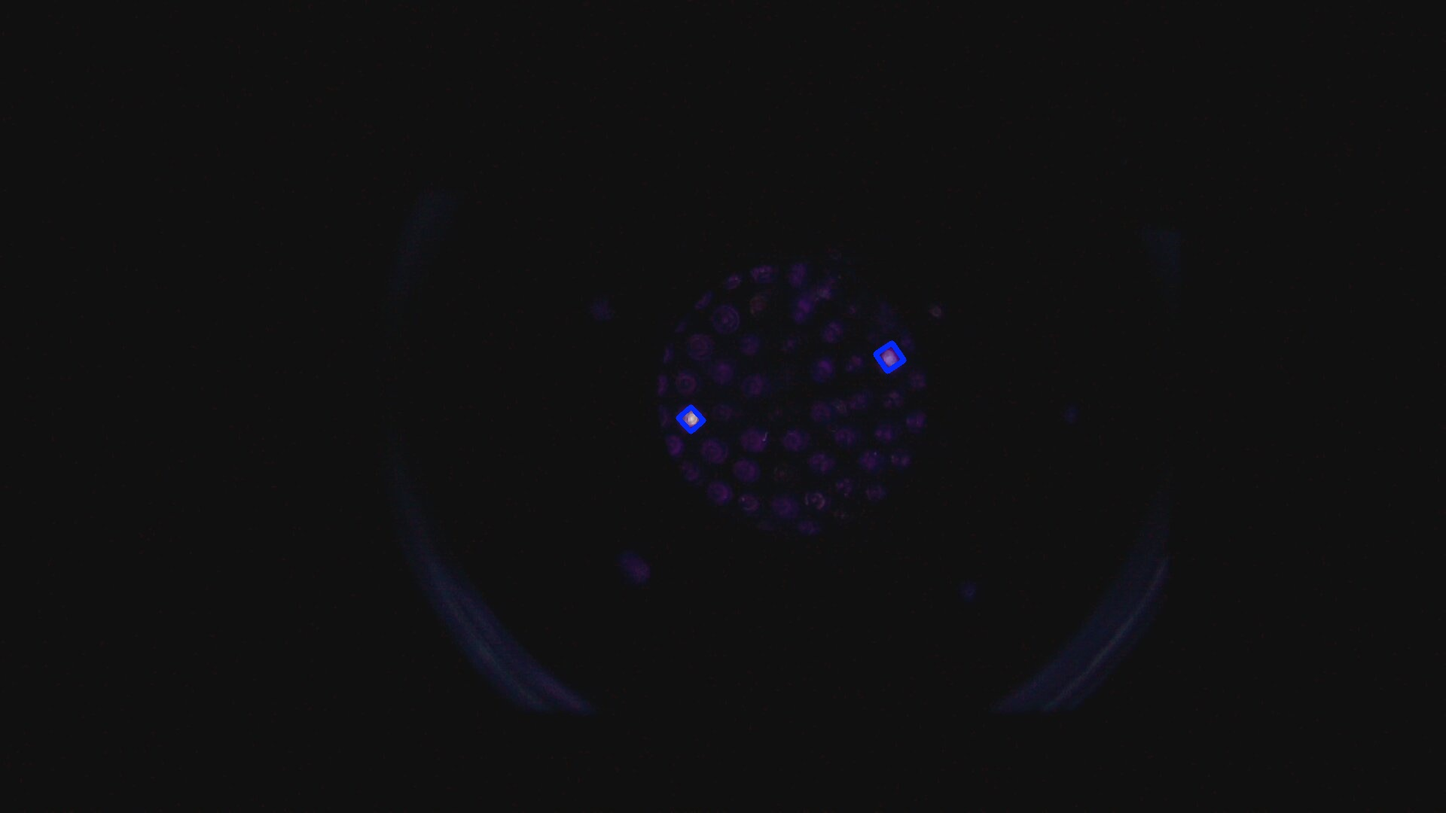plastic: (872, 339, 909, 376), (673, 402, 709, 437)
